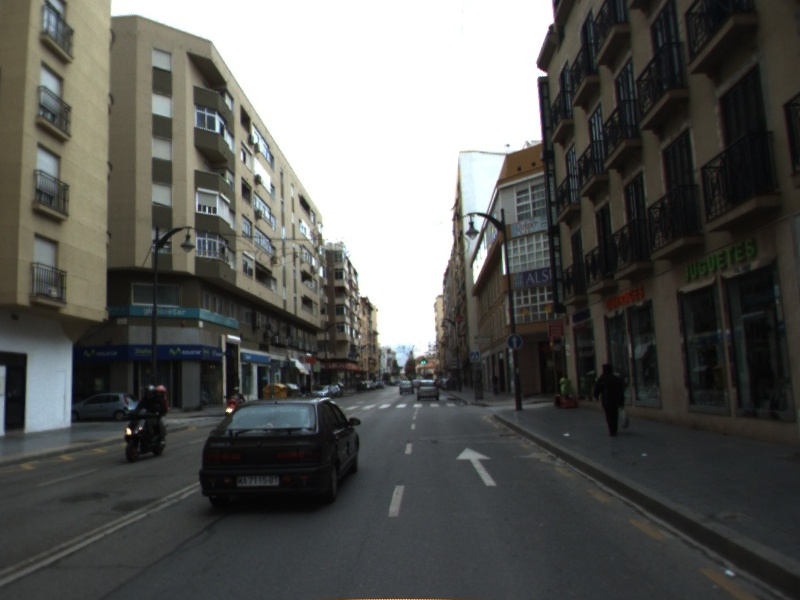STRAIGHT: (454, 445, 499, 488)
